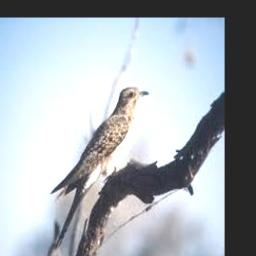Cuckoo: (50, 87, 148, 248)
